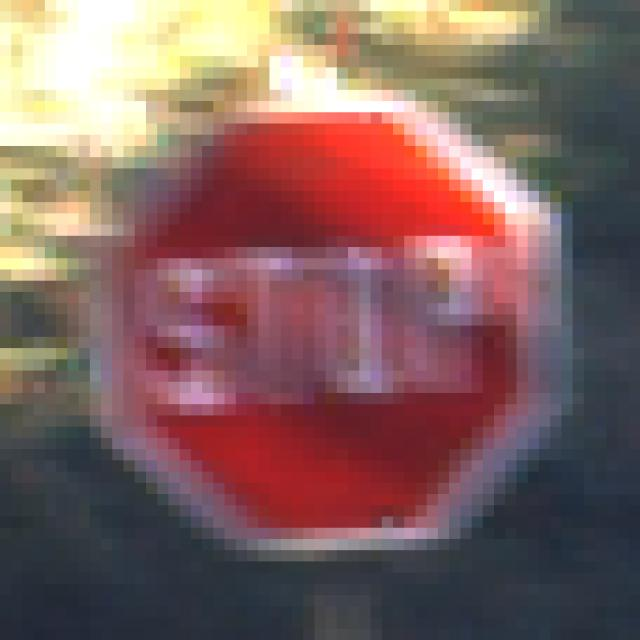STOP: (68, 68, 585, 585)
